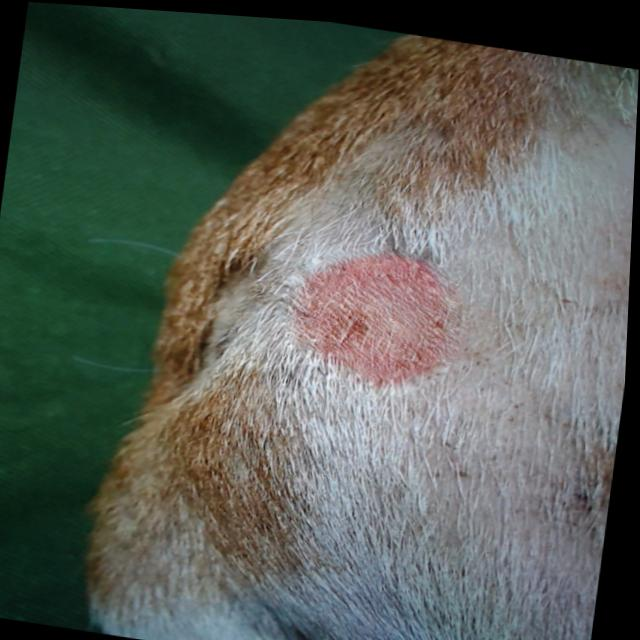ringworm: (278, 211, 494, 412)
